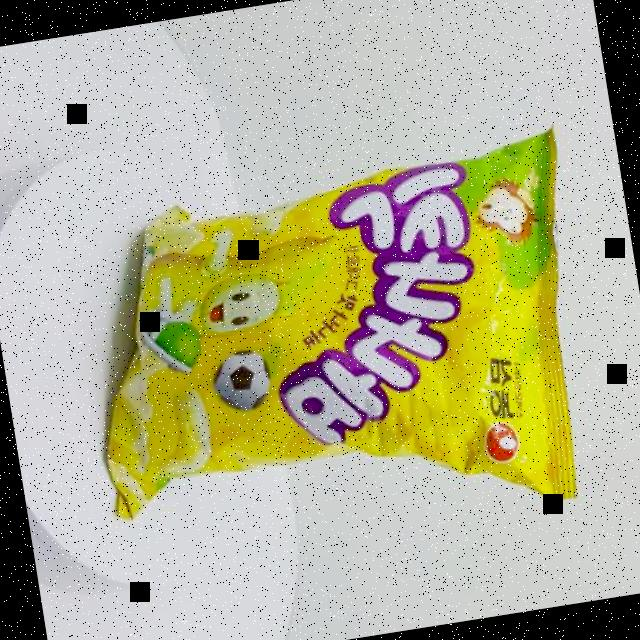snack_bag: (51, 109, 625, 582)
